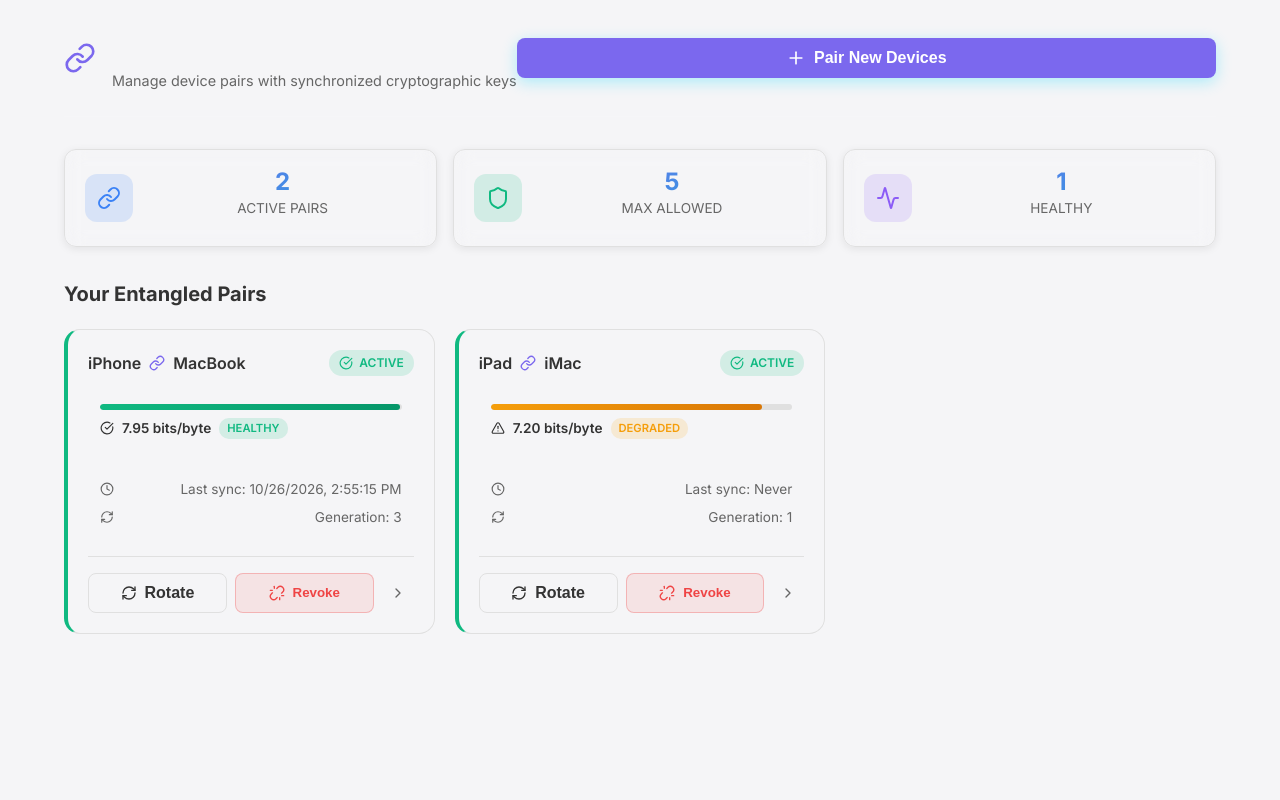
EntangledDeviceManager › shows pairing flow when pair button clicked
The image size is (1280, 800).
Check: the heading "Quantum Entangled Devices" is shown, box [112,24,517,66]
What coordinates should you click on to do the following:
click the button "Pair New Devices"
I would click on:
 (866, 58)
Its box is [517,38,1216,78].
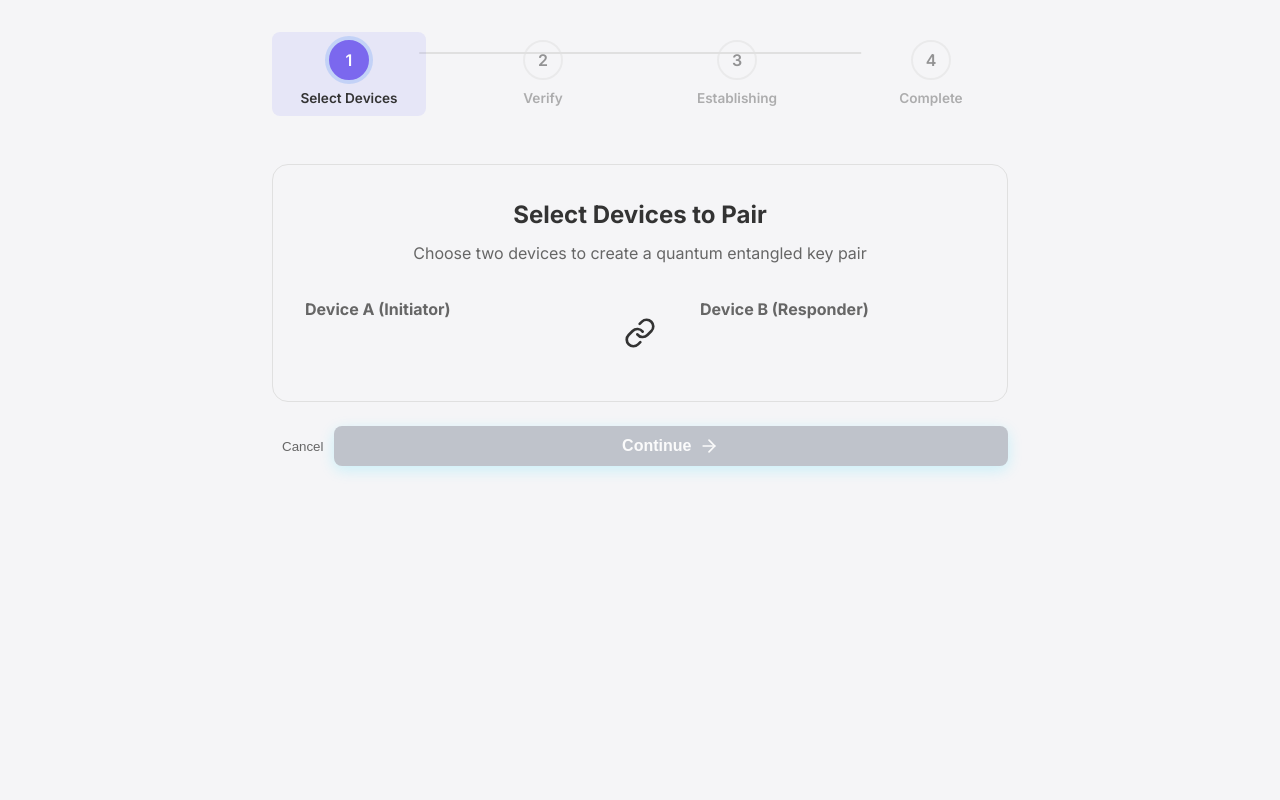
Check: the heading "Select Devices to Pair" is shown, box [513,200,767,229]
